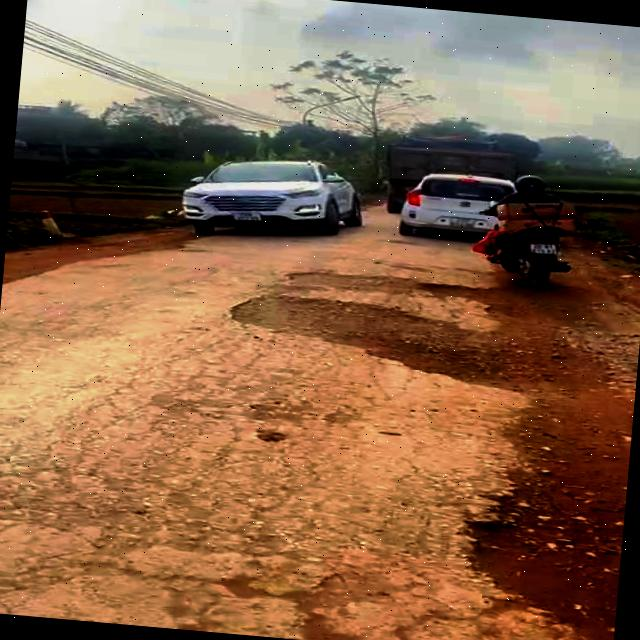pothole: (216, 288, 534, 397), (465, 472, 626, 640), (222, 561, 447, 640), (285, 262, 498, 309)
